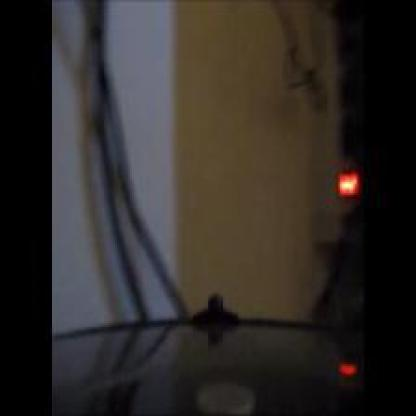other: (334, 160, 373, 212), (319, 356, 368, 380)
